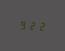nine: (18, 19, 26, 30)
two: (28, 19, 36, 31), (37, 20, 45, 31)
